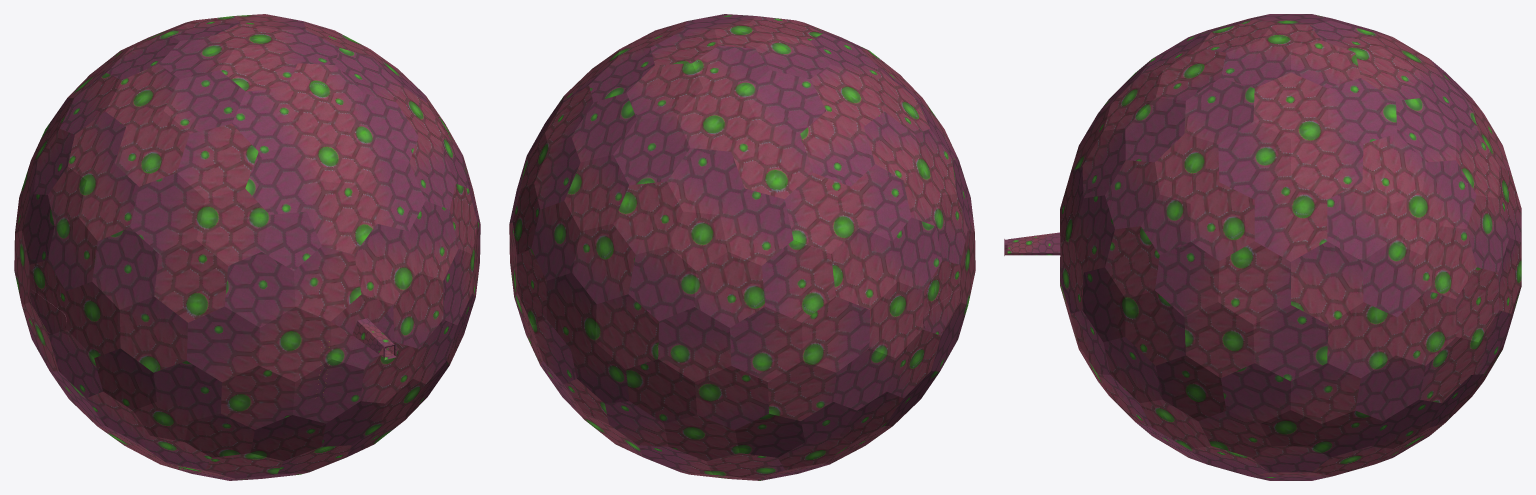
File: RotatingMap_GeoSpheres.fbx
3 views of the same model, side by side, from view 1: azimuth 30°, elevation 25°; view 2: azimuth 150°, elevation 25°; view 3: azimuth 270°, elevation 25° (orthographic).
Parts seen in each view (by area): view 1: GeoDome; view 2: GeoDome; view 3: GeoDome.
Boxes of the visible parts, x1=… form: GeoDome: x1=14, y1=14, x2=480, y2=480; GeoDome: x1=509, y1=14, x2=975, y2=480; GeoDome: x1=1004, y1=14, x2=1521, y2=480.
Bounding box in the file's own units: 38.84 × 43.44 × 39.15.
